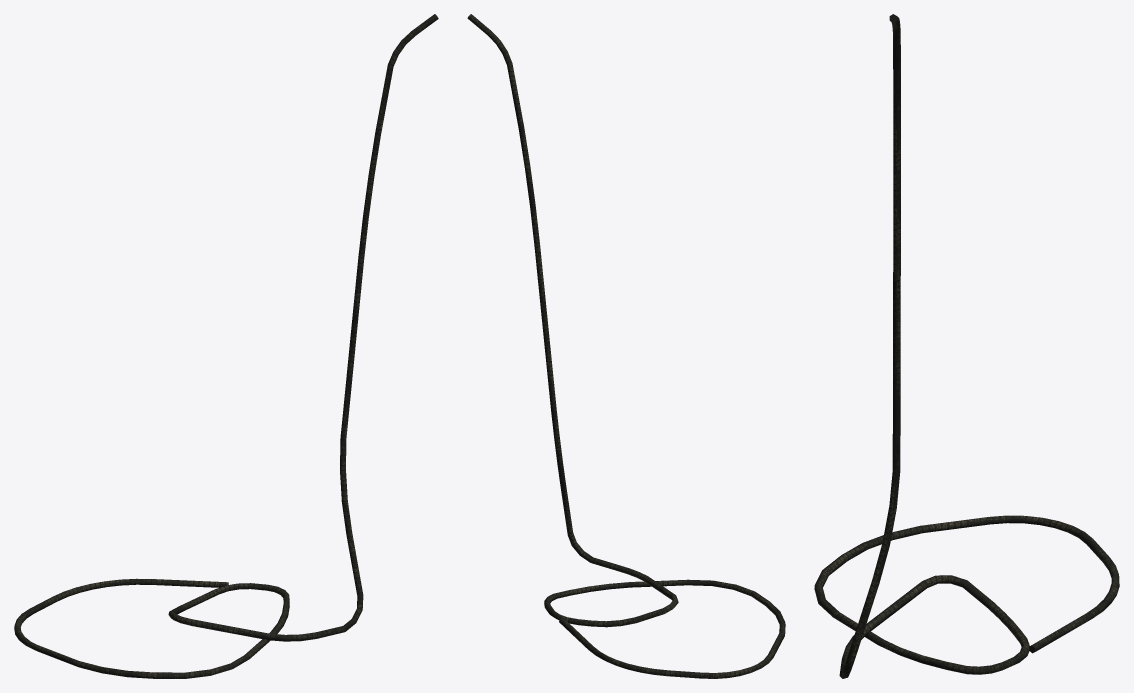
Rendered from Prop_Keyboard_Cable_x1.fbx.
3 renders of one model, left to right at view 1: azimuth 30°, elevation 25°; view 2: azimuth 150°, elevation 25°; view 3: azimuth 270°, elevation 25°, orthographic. The views are drawn at different scales.
Visible parts, largest first — view 1: Prop_Keyboard_Cable_x1; view 2: Prop_Keyboard_Cable_x1; view 3: Prop_Keyboard_Cable_x1.
Part boxes in pixels (x1,y1,x2,y2): Prop_Keyboard_Cable_x1: (14,14,438,678); Prop_Keyboard_Cable_x1: (467,14,785,678); Prop_Keyboard_Cable_x1: (814,14,1119,678).
Bounding box in the file's own units: 33.27 × 50.06 × 18.81.
